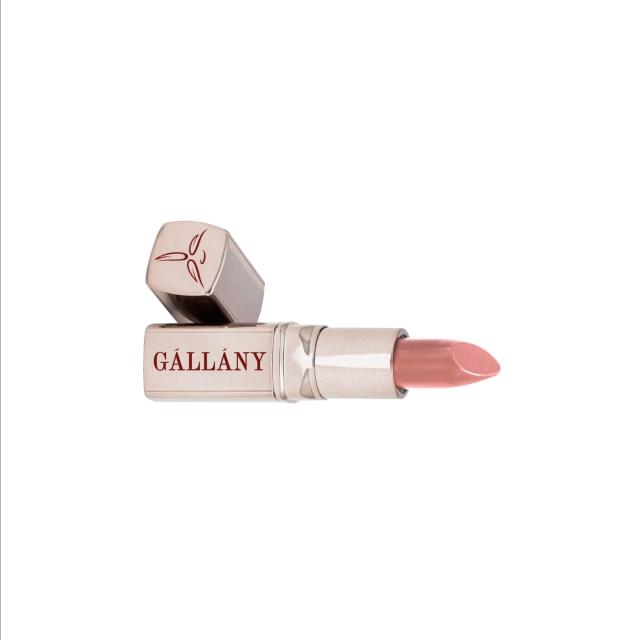lipstick: (112, 280, 485, 438)
